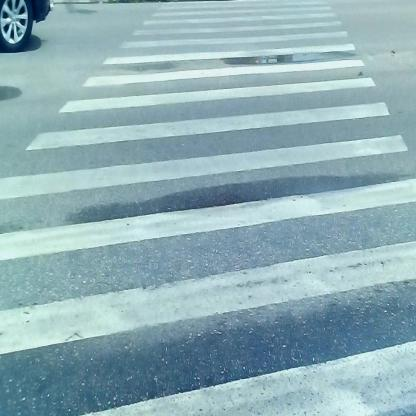crosswalk: (54, 13, 410, 416)
